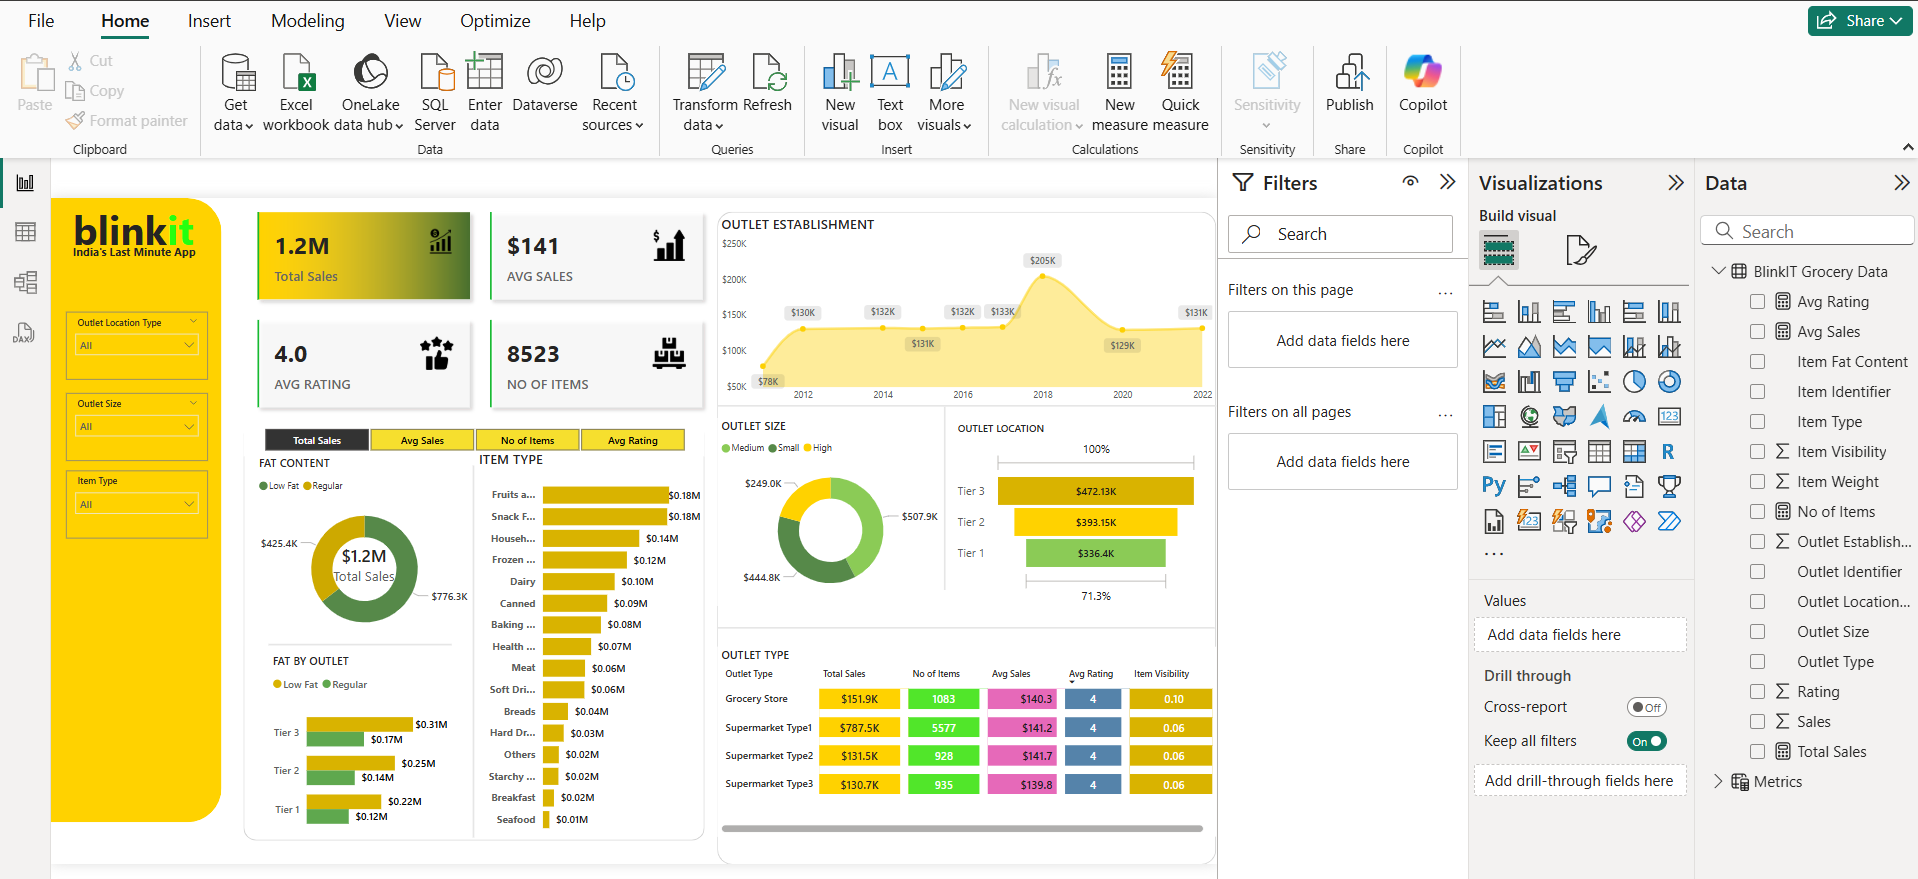

The dashboard page shown, as its layout file describes it:
{"tool":"powerbi","page":{"name":"Page 1","canvas":[1400,800],"ordinal":0},"visuals":[{"type":"shape","box":[0,0,205.1,750.7],"z":0},{"type":"textbox","box":[21,0,166.6,76.5],"z":1000},{"type":"textbox","box":[21.4,50.9,183.6,45.6],"z":2000},{"type":"cardVisual","fields":{"Data":["BlinkIT Grocery Data.Total Sales","BlinkIT Grocery Data.Avg Sales","BlinkIT Grocery Data.Avg Rating","BlinkIT Grocery Data.No of Items"]},"box":[230.6,0,569.7,269.4],"z":3000},{"type":"shape","box":[230.6,269.4,553.6,501.3],"z":4000},{"type":"donutChart","title":"FAT CONTENT","fields":{"Y":["BlinkIT Grocery Data.Total Sales"],"Category":["BlinkIT Grocery Data.Item Fat Content"]},"box":[244,309.7,264,228],"z":5000},{"type":"slicer","fields":{"Values":["Metrics.Metrics"]},"box":[230.6,269.4,553.6,40],"z":6000},{"type":"cardVisual","fields":{"Data":["BlinkIT Grocery Data.Total Sales"]},"box":[307,399.5,136.7,72.4],"z":7000},{"type":"clusteredBarChart","title":"FAT BY OUTLET","fields":{"Y":["BlinkIT Grocery Data.Total Sales"],"Category":["BlinkIT Grocery Data.Outlet Location Type"],"Series":["BlinkIT Grocery Data.Item Fat Content"]},"box":[261.4,546.9,219.8,230.6],"z":8000},{"type":"shape","box":[261.4,520.1,219.8,30.8],"z":9000},{"type":"shape","box":[483.9,321.7,48.3,449.1],"z":10000},{"type":"barChart","title":"ITEM TYPE","fields":{"Y":["BlinkIT Grocery Data.Total Sales"],"Category":["BlinkIT Grocery Data.Item Type"]},"box":[508,301.6,276.1,470.5],"z":11000},{"type":"shape","box":[800.3,16.1,599.2,784.2],"z":12000},{"type":"lineChart","title":"OUTLET ESTABLISHMENT","fields":{"Category":["BlinkIT Grocery Data.Outlet Establishment Year"],"Y":["BlinkIT Grocery Data.Total Sales"]},"box":[800.3,18.8,599.2,234.6],"z":13000},{"type":"shape","box":[800.3,234.6,599.2,30.8],"z":14000},{"type":"donutChart","title":"OUTLET SIZE","fields":{"Y":["BlinkIT Grocery Data.Total Sales"],"Category":["BlinkIT Grocery Data.Outlet Size"]},"box":[800.3,264.1,273.5,225.2],"z":15000},{"type":"shape","box":[1049.6,250.7,48.3,221.2],"z":16000},{"type":"funnel","title":"OUTLET LOCATION","fields":{"Y":["Sum(BlinkIT Grocery Data.Sales)"],"Category":["BlinkIT Grocery Data.Outlet Location Type"]},"box":[1083.1,268.1,298.9,225.2],"z":17000},{"type":"shape","box":[800.3,483.9,597.9,65.7],"z":18000},{"type":"pivotTable","title":"OUTLET TYPE","fields":{"Rows":["BlinkIT Grocery Data.Outlet Type"],"Values":["BlinkIT Grocery Data.Total Sales","BlinkIT Grocery Data.No of Items","BlinkIT Grocery Data.Avg Sales","BlinkIT Grocery Data.Avg Rating","Avg(BlinkIT Grocery Data.Item Visibility)"]},"box":[800.3,538.9,599.2,227.9],"z":19000},{"type":"slicer","fields":{"Values":["BlinkIT Grocery Data.Outlet Location Type"]},"box":[17.4,136.7,170.2,81.8],"z":20000},{"type":"slicer","fields":{"Values":["BlinkIT Grocery Data.Outlet Size"]},"box":[17.4,234.6,170.2,81.8],"z":21000},{"type":"slicer","fields":{"Values":["BlinkIT Grocery Data.Item Type"]},"box":[17.4,327.1,170.2,81.8],"z":22000}]}

Visuals, with their boxes on the page's 1400x800 design canvas (x1, y1, x2, y2). These are canvas units, not pixel positions in the 1918x879 screenshot, which may show the page scaled, cropped or inside an application window:
shape: l=0, t=0, r=205, b=751
textbox: l=21, t=0, r=188, b=76
textbox: l=21, t=51, r=205, b=96
cardVisual - BlinkIT Grocery Data.Total Sales x BlinkIT Grocery Data.Avg Sales: l=231, t=0, r=800, b=269
shape: l=231, t=269, r=784, b=771
"FAT CONTENT" donutChart: l=244, t=310, r=508, b=538
slicer - Metrics.Metrics: l=231, t=269, r=784, b=309
cardVisual - BlinkIT Grocery Data.Total Sales: l=307, t=400, r=444, b=472
"FAT BY OUTLET" clusteredBarChart: l=261, t=547, r=481, b=778
shape: l=261, t=520, r=481, b=551
shape: l=484, t=322, r=532, b=771
"ITEM TYPE" barChart: l=508, t=302, r=784, b=772
shape: l=800, t=16, r=1400, b=800
"OUTLET ESTABLISHMENT" lineChart: l=800, t=19, r=1400, b=253
shape: l=800, t=235, r=1400, b=265
"OUTLET SIZE" donutChart: l=800, t=264, r=1074, b=489
shape: l=1050, t=251, r=1098, b=472
"OUTLET LOCATION" funnel: l=1083, t=268, r=1382, b=493
shape: l=800, t=484, r=1398, b=550
"OUTLET TYPE" pivotTable: l=800, t=539, r=1400, b=767
slicer - BlinkIT Grocery Data.Outlet Location Type: l=17, t=137, r=188, b=218
slicer - BlinkIT Grocery Data.Outlet Size: l=17, t=235, r=188, b=316
slicer - BlinkIT Grocery Data.Item Type: l=17, t=327, r=188, b=409
